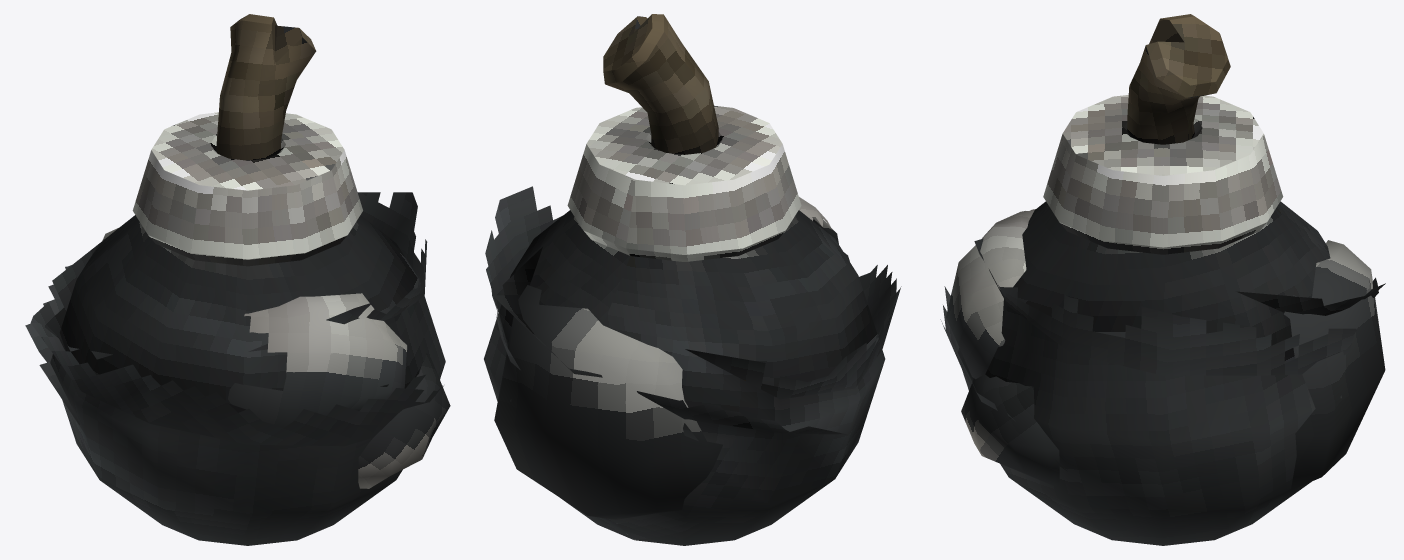
Rendered from sticky_bomb.fbx.
3 views of the same model, side by side, from view 1: azimuth 30°, elevation 25°; view 2: azimuth 150°, elevation 25°; view 3: azimuth 270°, elevation 25° (orthographic). The views are drawn at different scales.
Visible parts, largest first — view 1: Object002; view 2: Object002; view 3: Object002.
Boxes of the visible parts, bbox=[...] form: Object002: bbox=[25, 14, 450, 545]; Object002: bbox=[484, 14, 901, 545]; Object002: bbox=[940, 14, 1385, 545].
Bounding box in the file's own units: 25.04 × 33.37 × 26.37.
